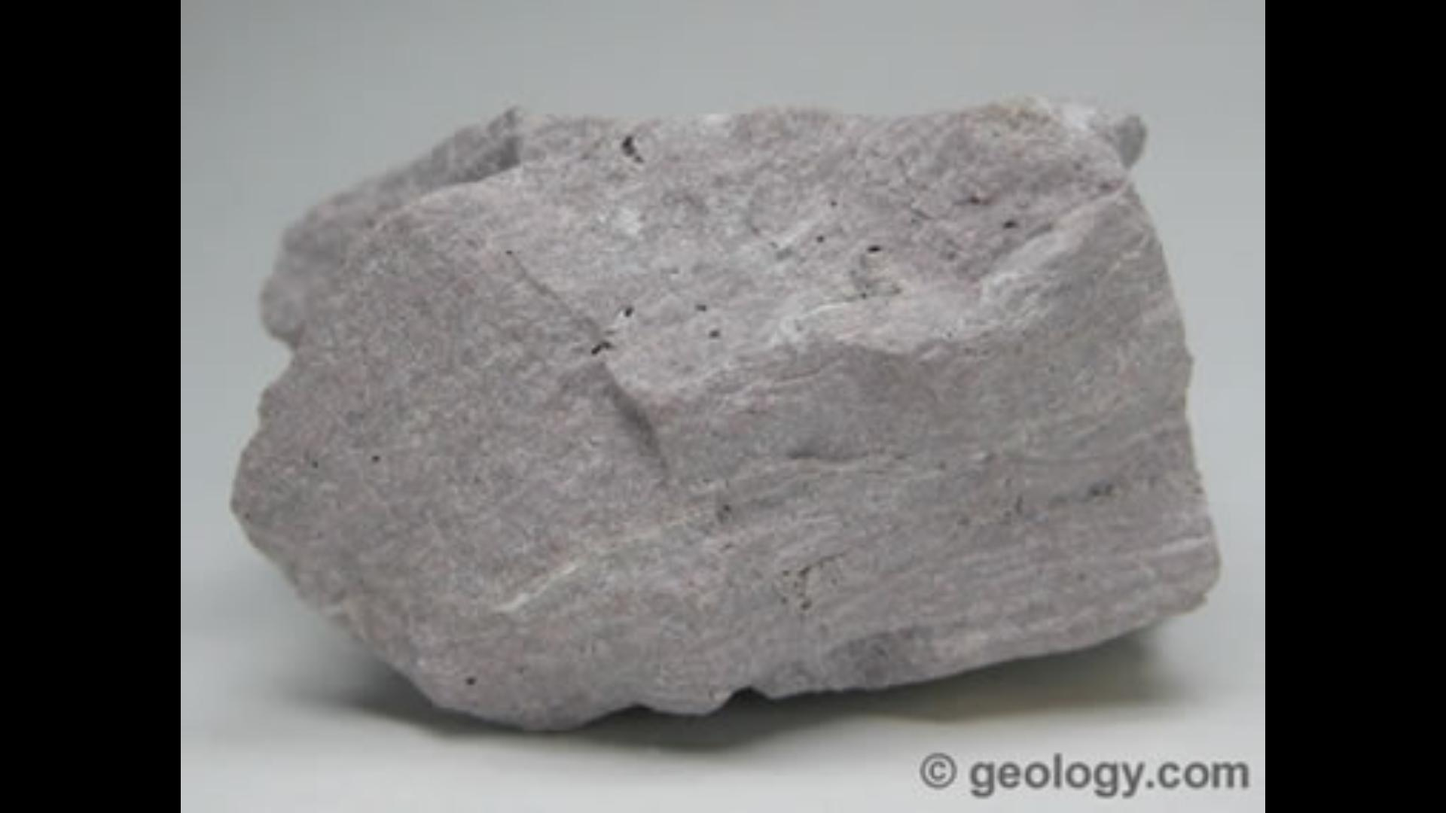rock: (235, 97, 1217, 727)
